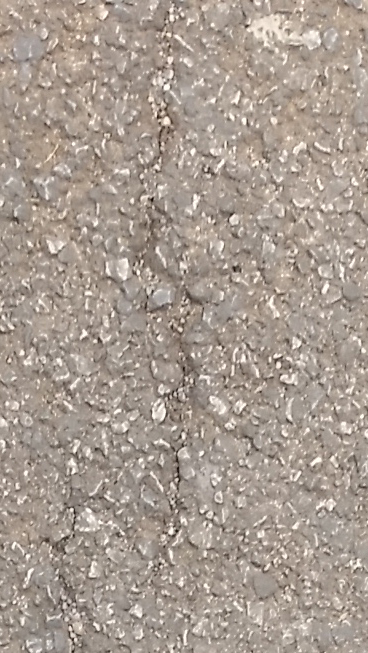A: (57, 2, 238, 607)
